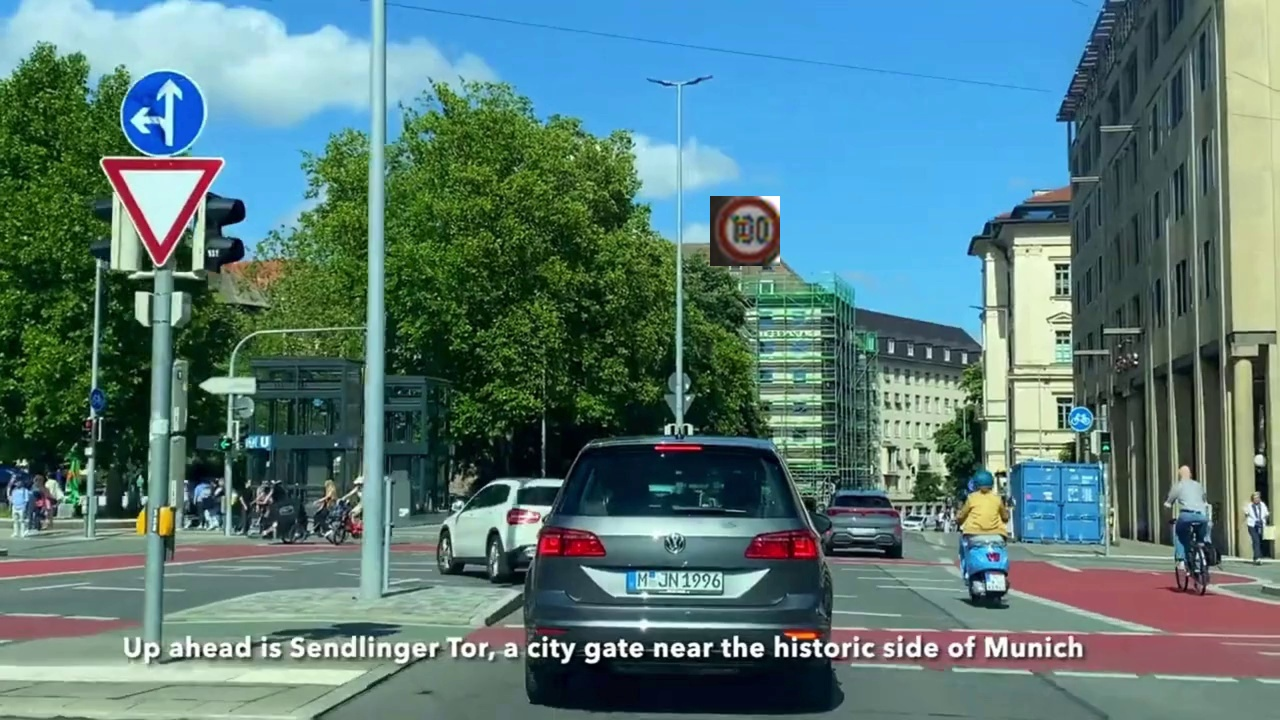Speed 100: (710, 196, 780, 266)
